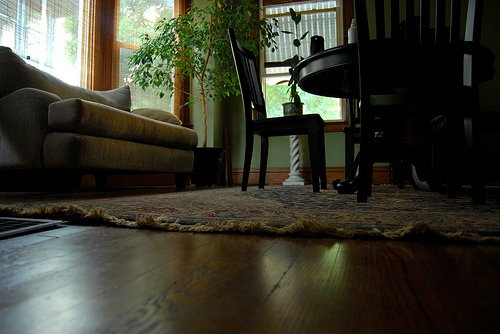chair: (292, 43, 420, 200), (229, 32, 328, 192), (355, 92, 432, 204)
couch: (2, 50, 198, 192)
potted plant: (124, 4, 300, 170)
